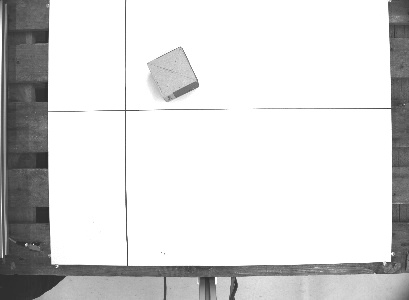b7: (144, 44, 202, 103)
